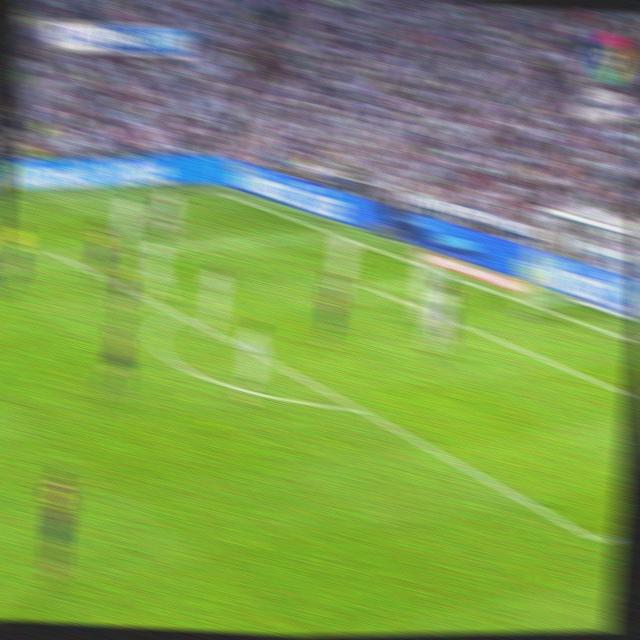bigarea_bottom_inner: (585, 523, 607, 555)
bottom_arc_area_intersection: (345, 394, 367, 419)
corner: (208, 181, 227, 198)
top_arc_area_intersection: (167, 303, 185, 324)
